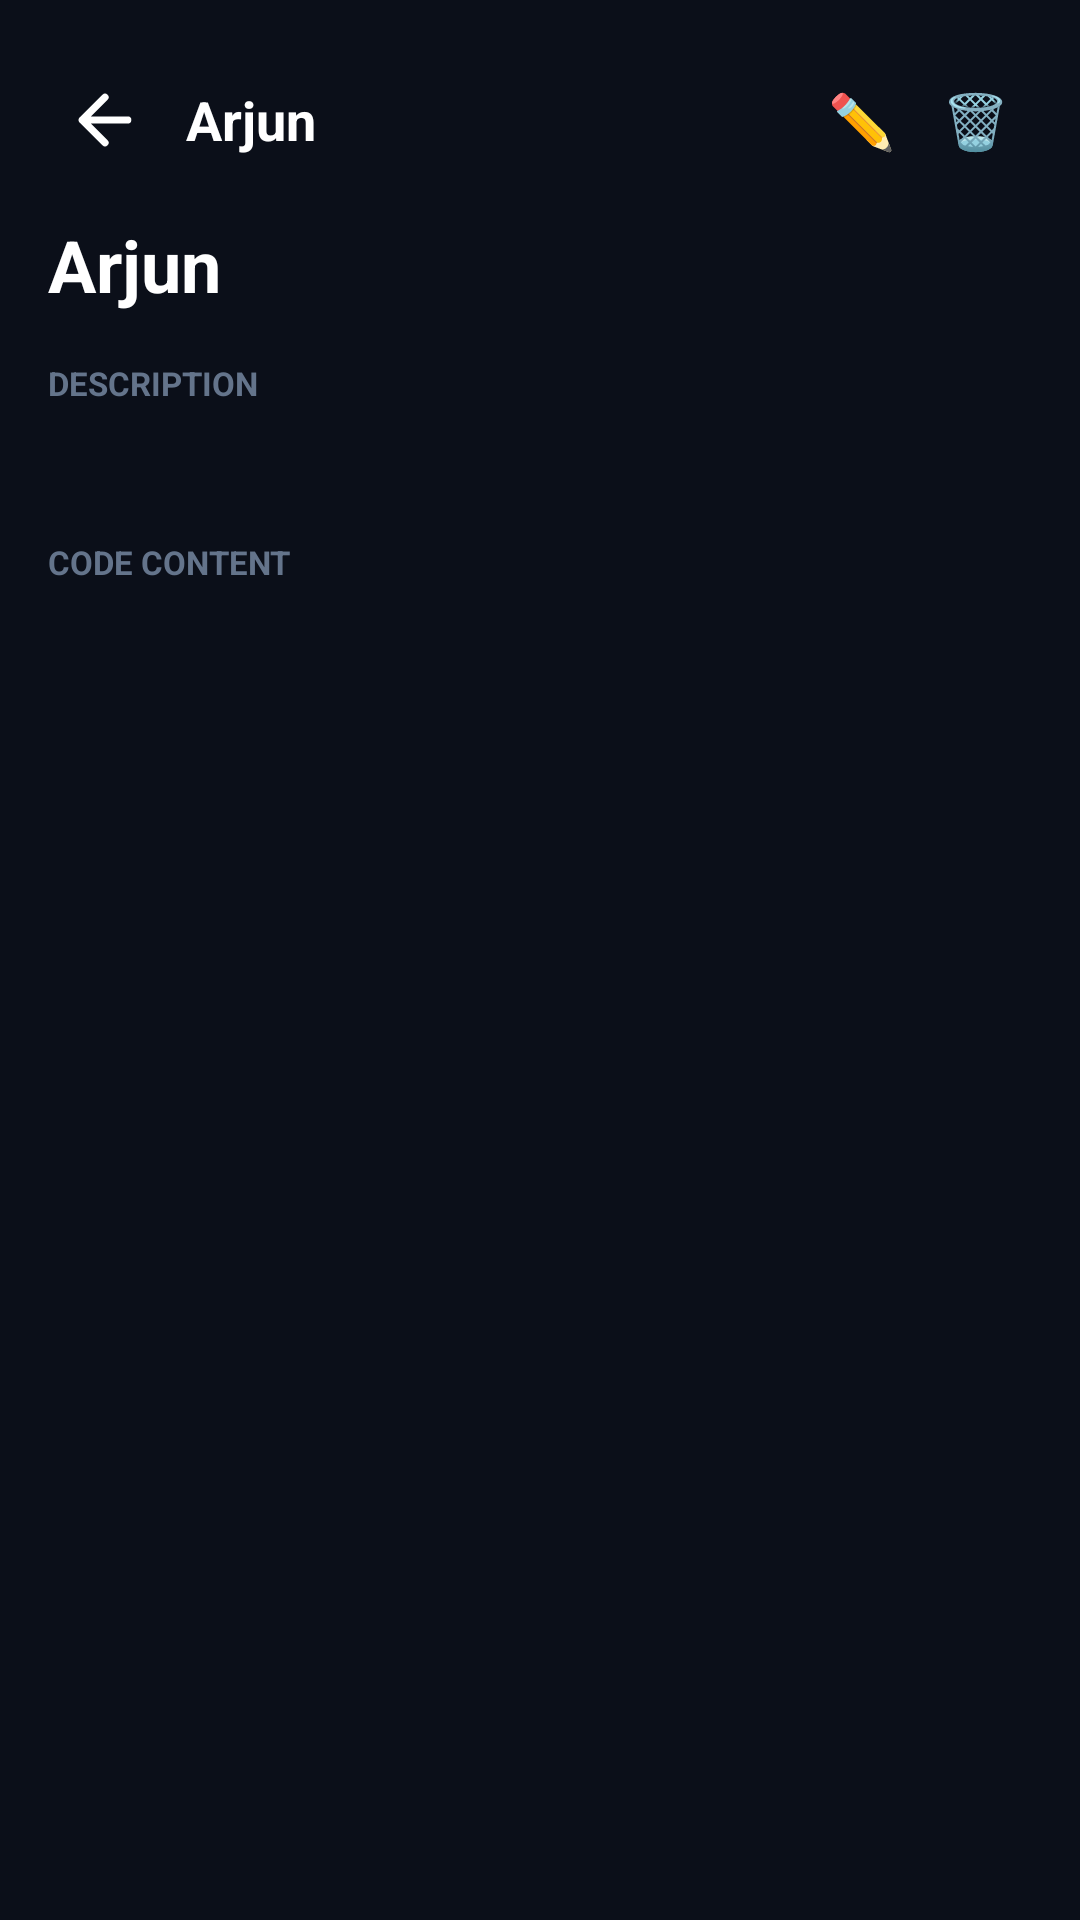

Icons on this 1080px×1920px Android screen, each with its box as (x1, y1, x2, y2):
arrow back: (78, 93, 132, 147)
